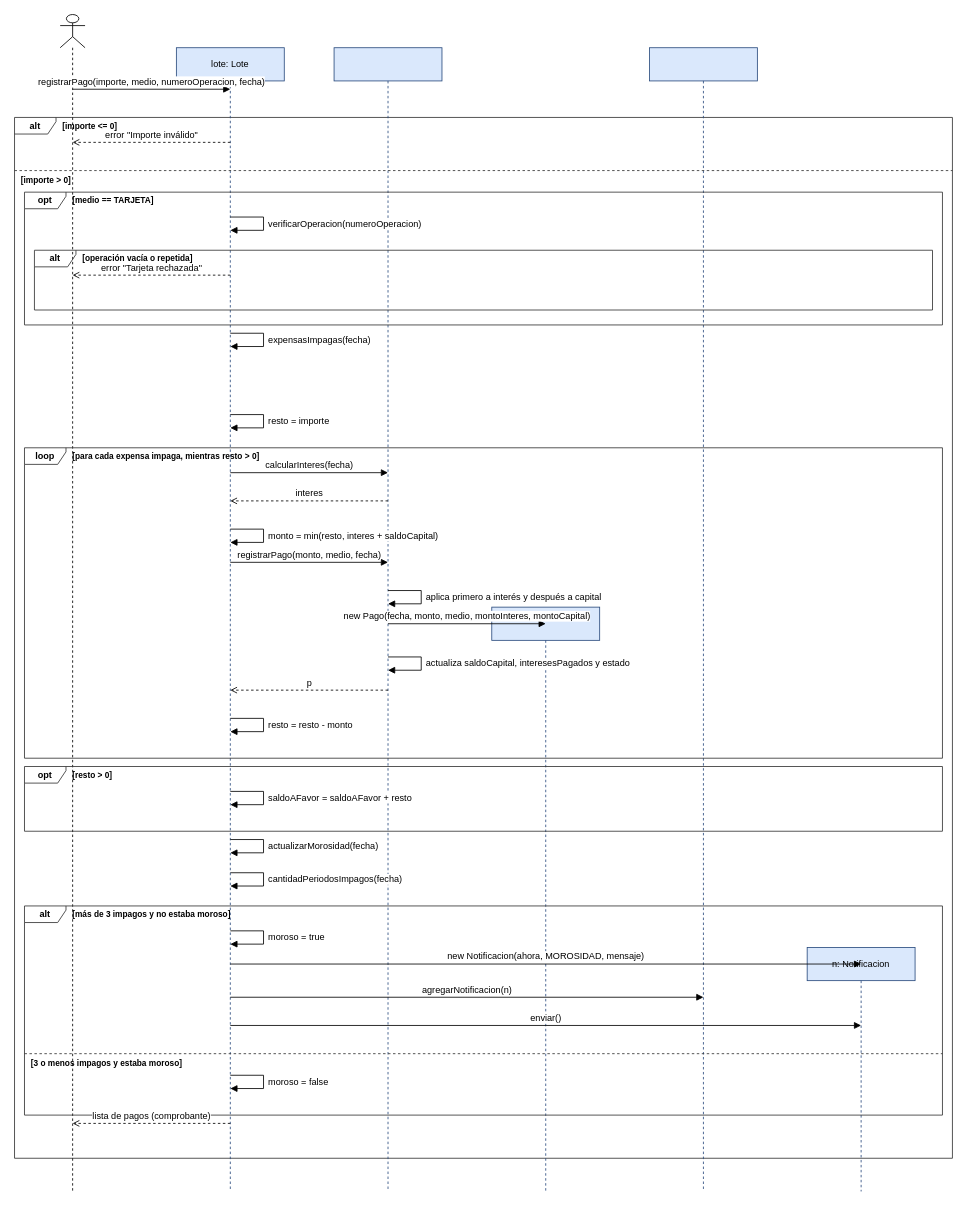
This 968x1206 diagram has some shape labels left out. Each missing label, with the box of its shape:
e: Expensa: (333, 47, 442, 1191)
p: Pago: (491, 606, 600, 1191)
Titular / Administrador: (59, 14, 85, 1191)
titular: Persona: (649, 47, 757, 1191)
